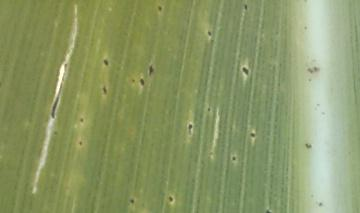tarspot: (186, 121, 193, 137), (315, 199, 325, 210), (240, 66, 249, 77), (147, 62, 154, 76), (100, 83, 108, 95), (165, 194, 175, 203), (312, 64, 321, 74), (304, 141, 313, 150), (101, 58, 110, 67), (129, 77, 138, 86), (127, 196, 135, 205), (305, 66, 313, 75), (249, 130, 256, 140), (138, 76, 145, 86), (230, 154, 238, 162), (78, 115, 85, 124), (76, 138, 83, 147), (302, 24, 309, 32), (306, 75, 313, 83), (263, 207, 272, 213), (242, 3, 249, 10), (52, 129, 59, 136), (206, 29, 212, 37), (156, 4, 162, 12), (205, 105, 211, 113), (302, 1, 309, 4)
